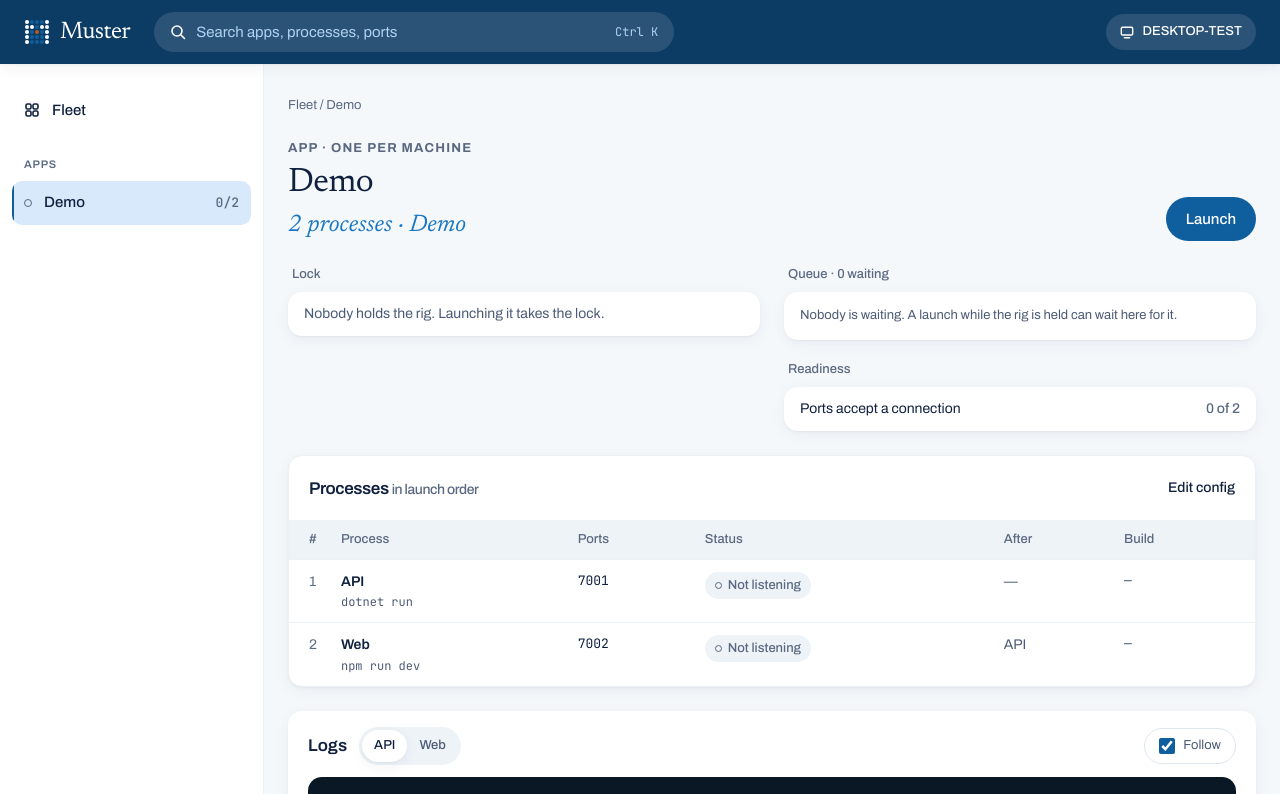
Test case: App detail › reports a failed action and dismisses it
What coordinates should you click on to do the following:
click the button "Launch"
I would click on:
 (1211, 219)
Its box is [1166,197,1256,241].
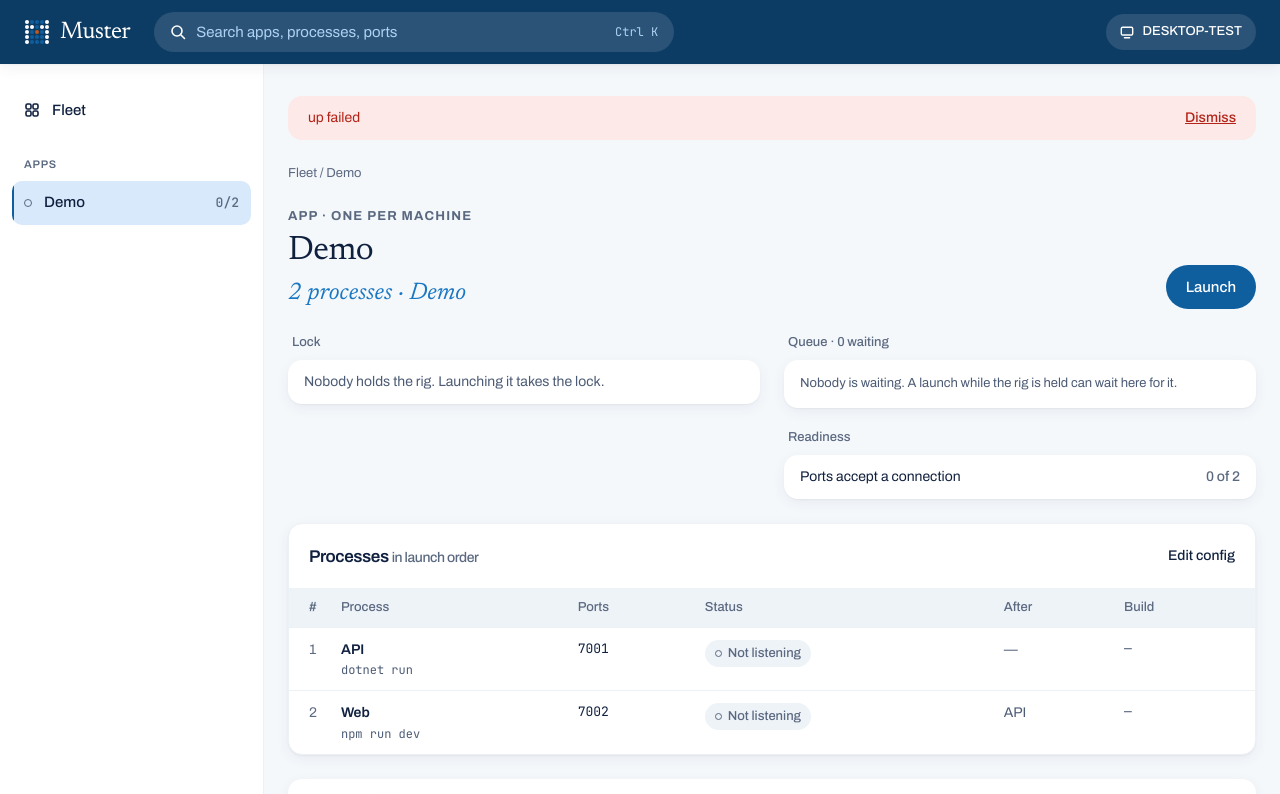
Now the message shows "up failed", box [308,110,360,125]
What coordinates should you click on to do the following:
click the button "Dismiss"
I would click on:
 (1210, 118)
Its box is [1185,108,1236,128].
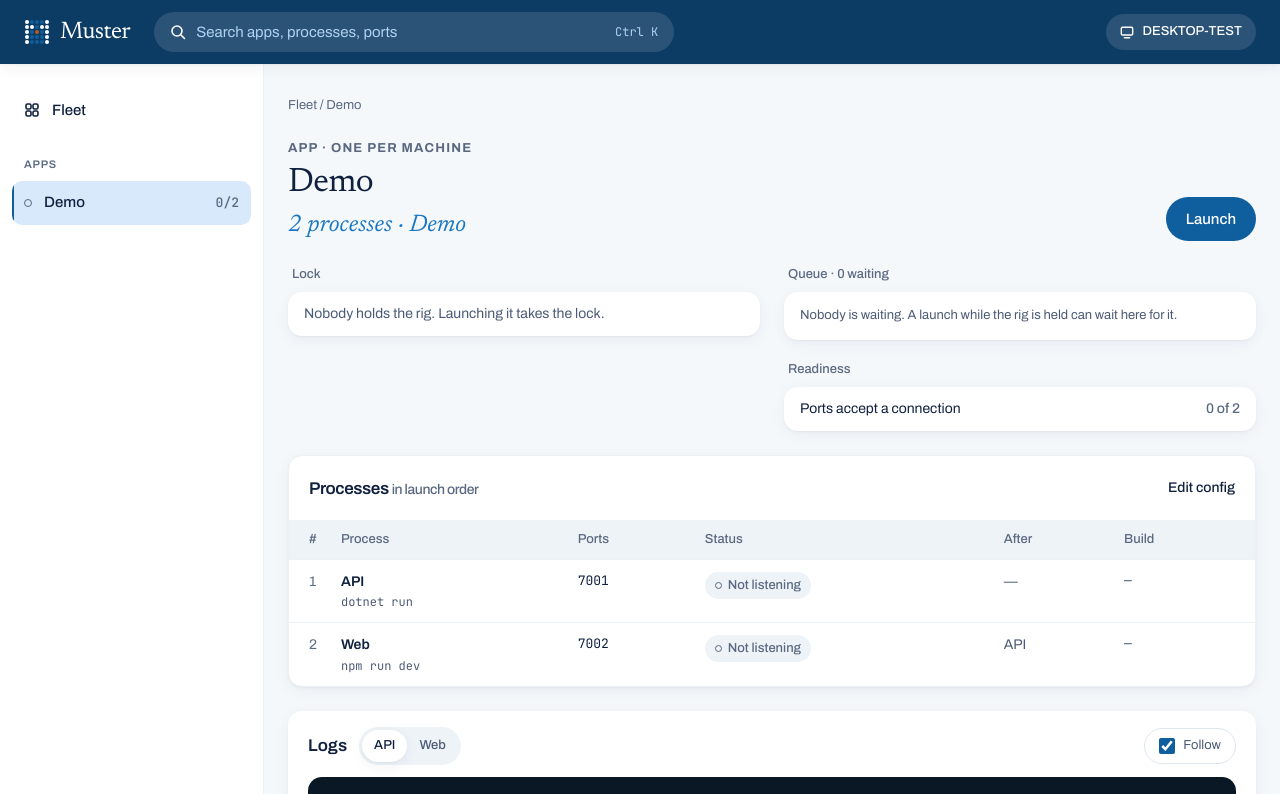
Now the message "up failed Dismiss" is gone
